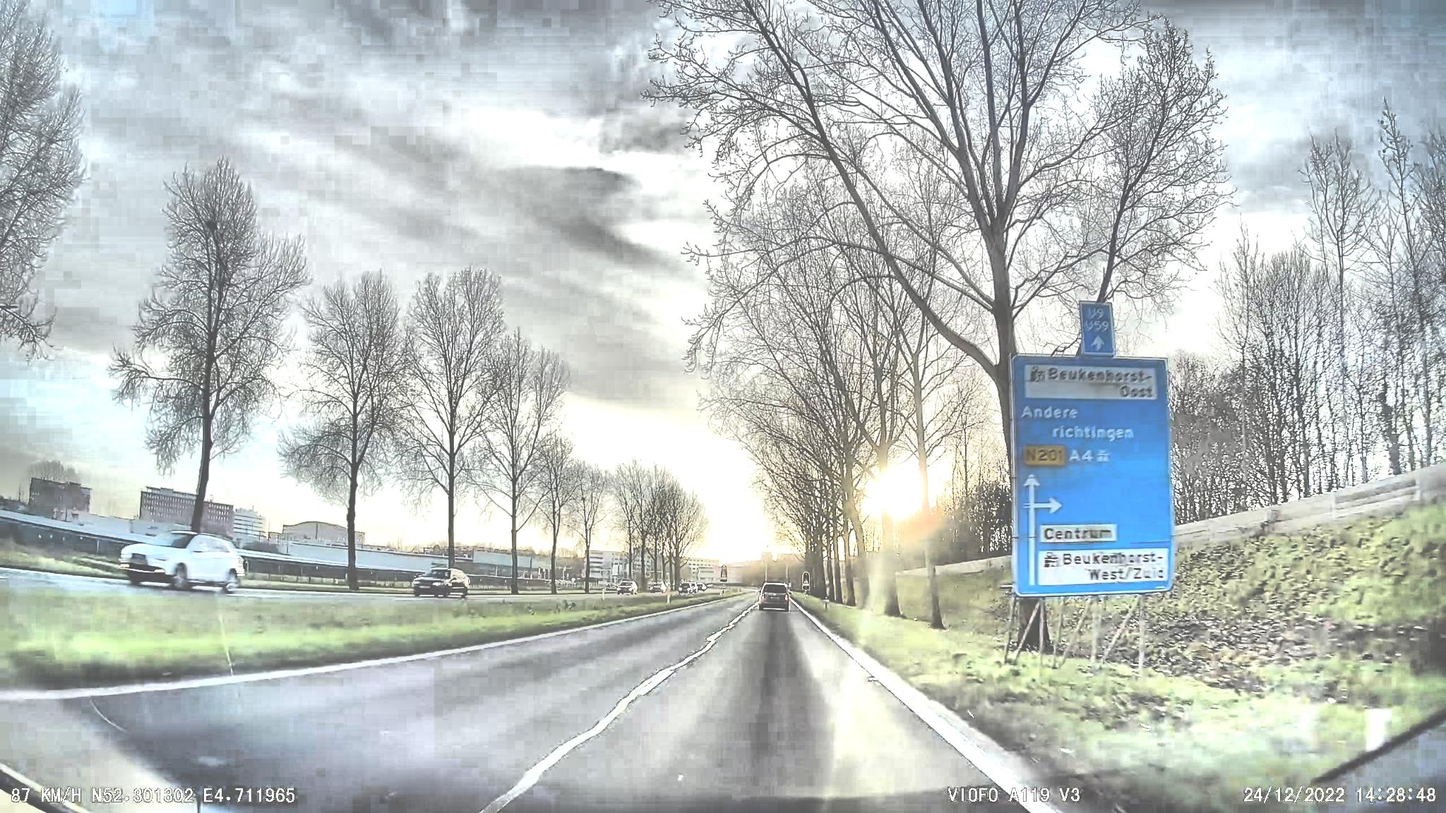Roads: (0, 598, 1125, 813)
